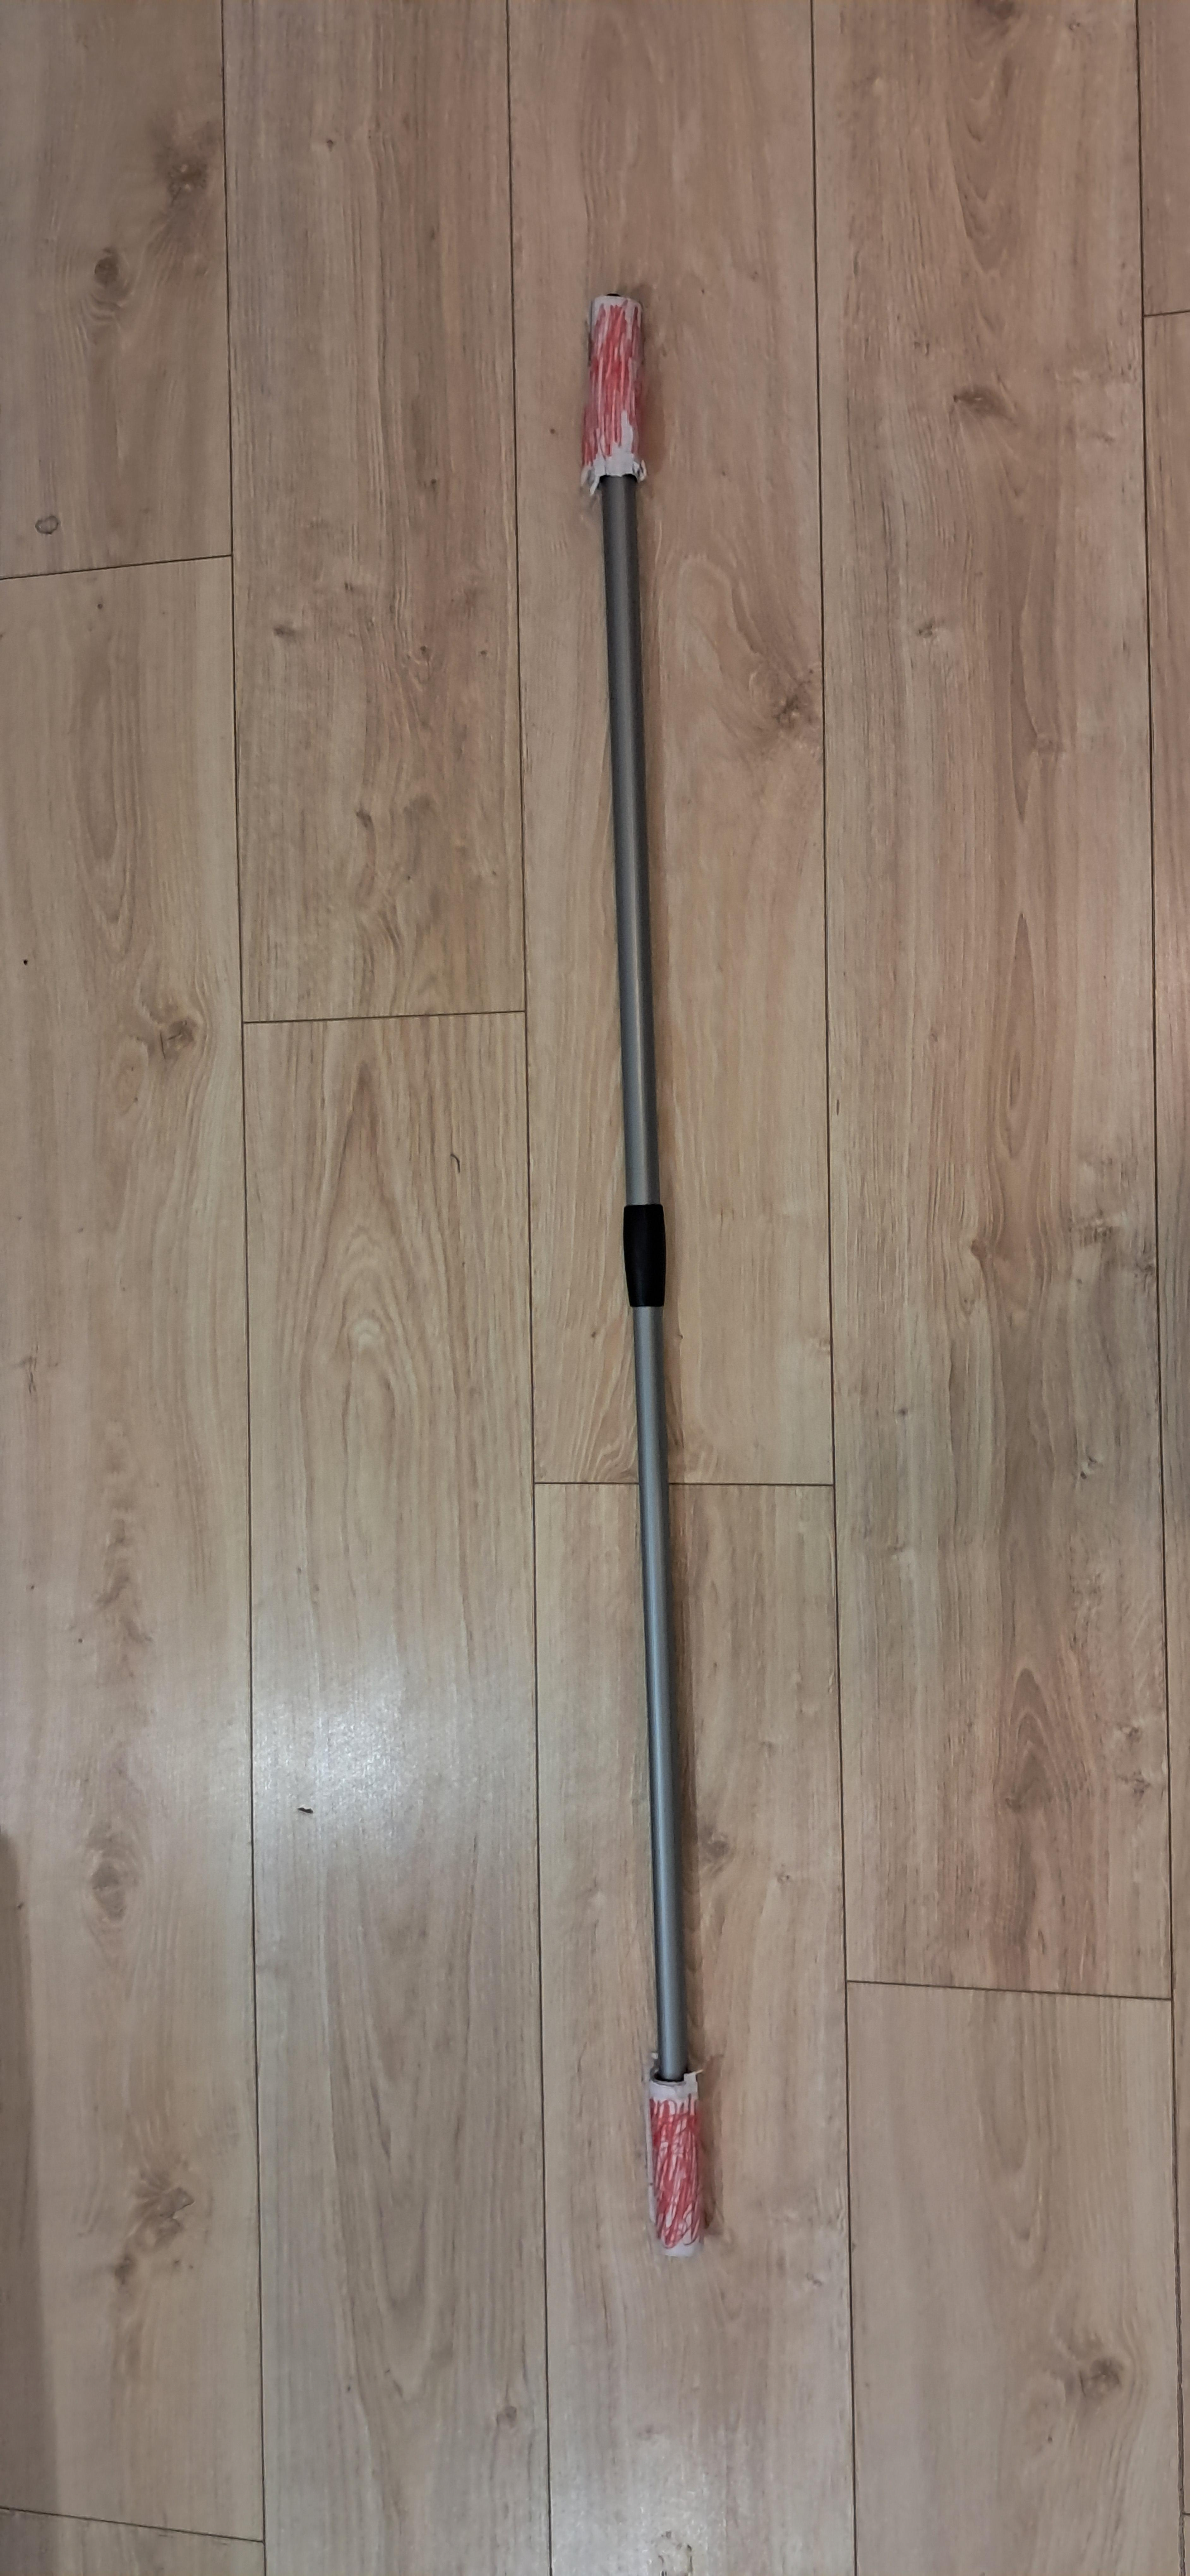broom-handle: (583, 296, 703, 2254)
